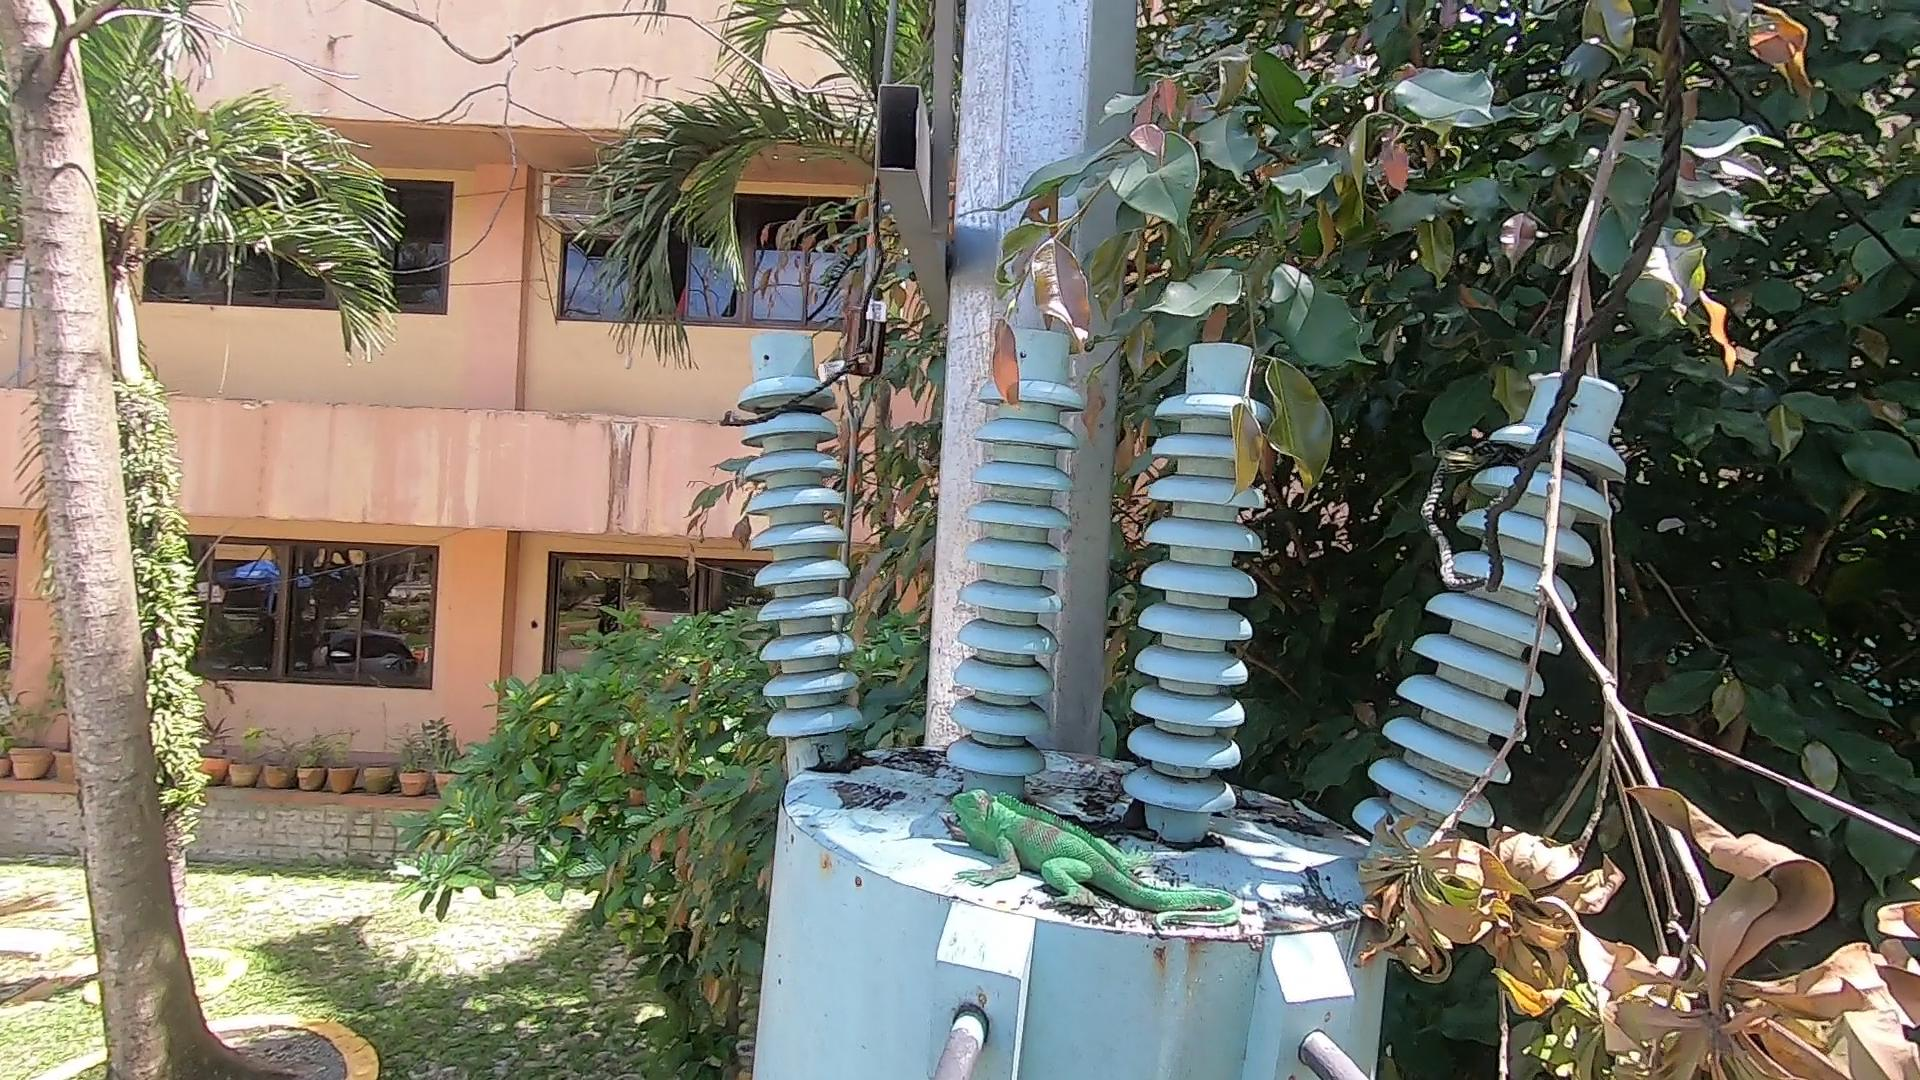branch with leaves: (1393, 47, 1920, 1065)
leaf: (1120, 807, 1159, 836)
tree branch: (1056, 774, 1133, 802)
